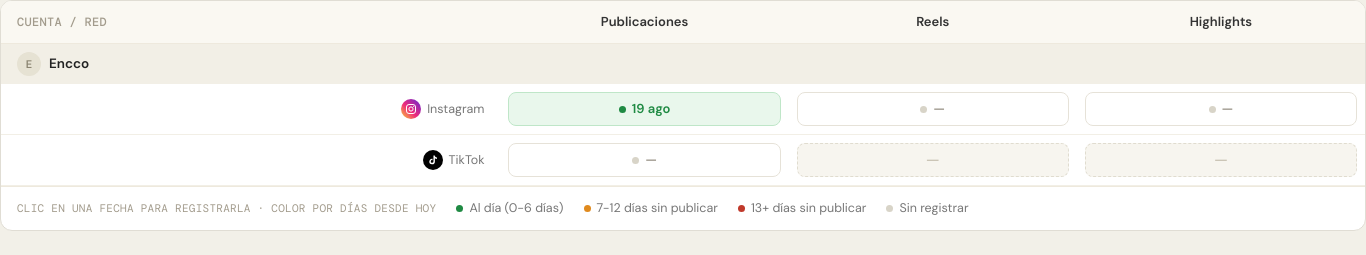
Test case: ChequeoGrid › un clic abre el editor directo, sin ningún aviso de confirmación
What coordinates should you click on to do the following:
click the button "19 ago"
I would click on:
 (645, 109)
Its box is [508,92,781,126].
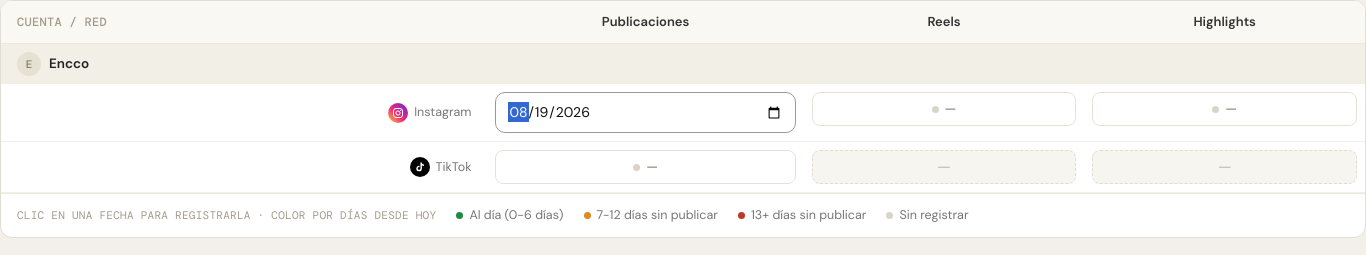
Now the date field showing "2026-08-19" is shown, box [496,92,796,133]
